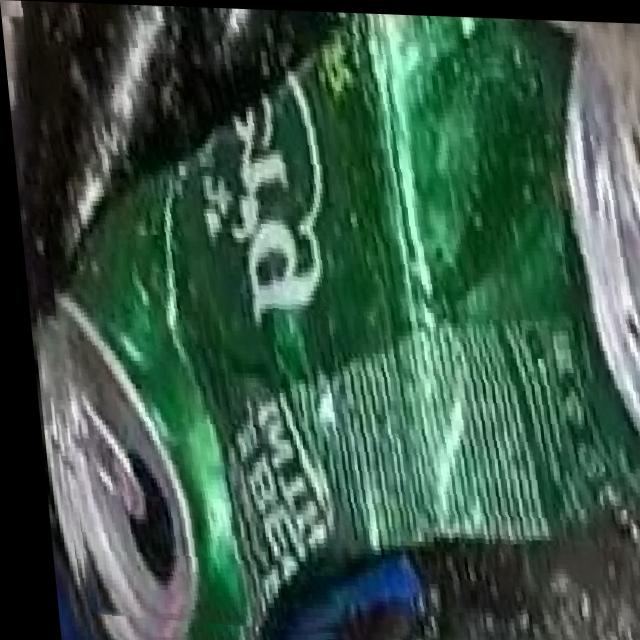can: (47, 10, 640, 629)
